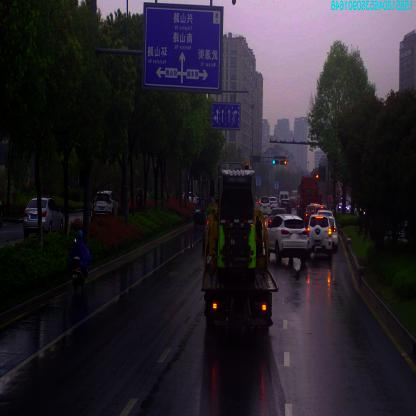traffic-light: (280, 160, 287, 166), (273, 160, 279, 165)
